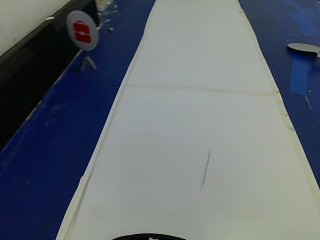company: (66, 9, 100, 52)
